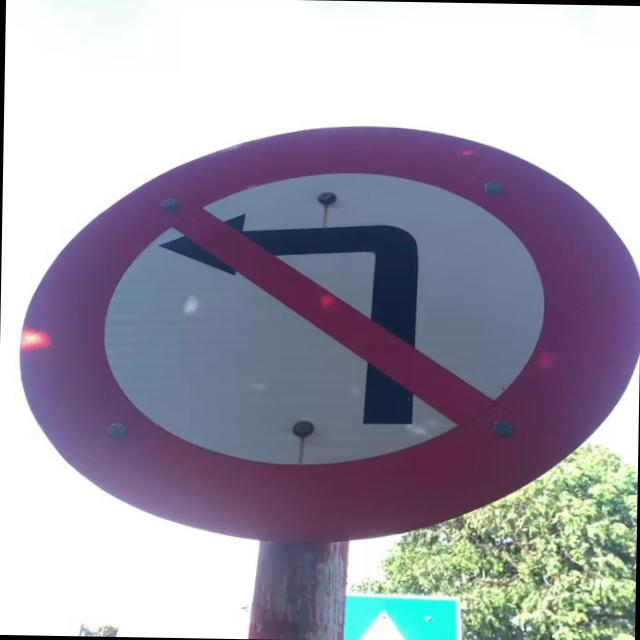Cam_Re_Trai: (13, 107, 640, 546)
